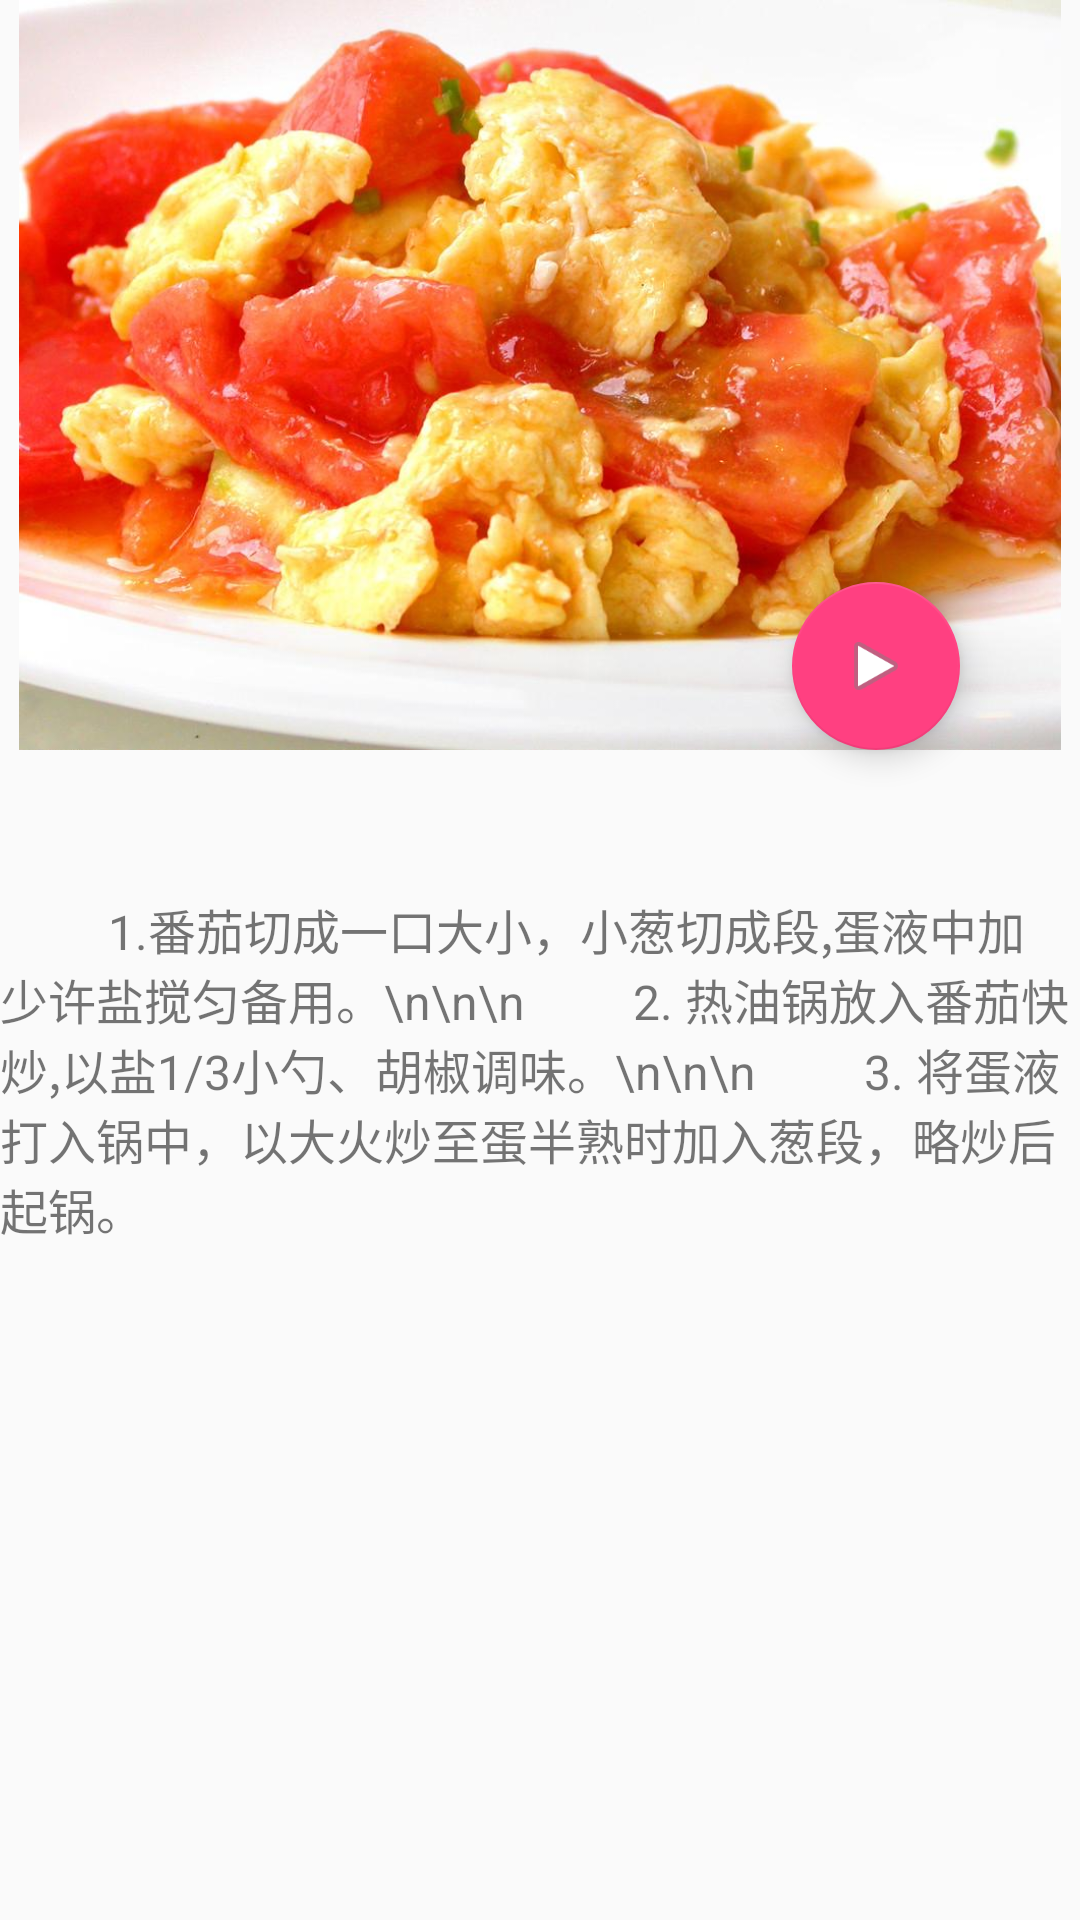

Point at icon controls on the screen. Image size 1080px x 1920px, points as (x,y).
play: (876,666)
